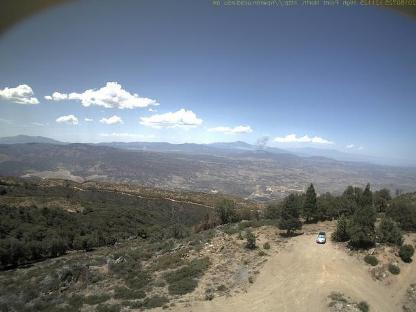smoke: (249, 132, 273, 154)
